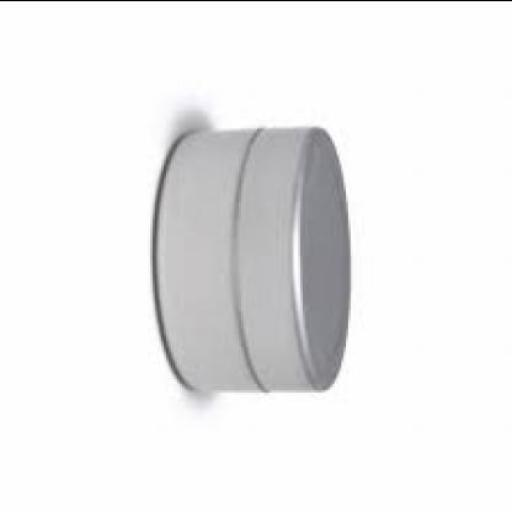metal: (153, 126, 352, 386)
